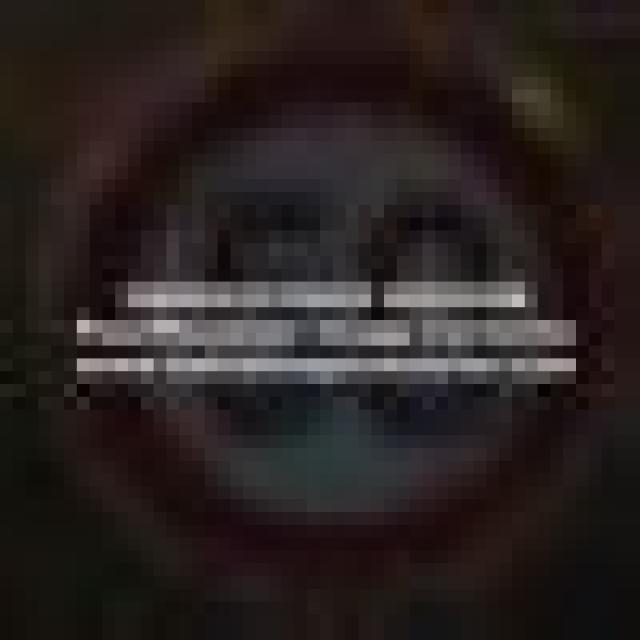speed_limit_30: (51, 38, 589, 550)
